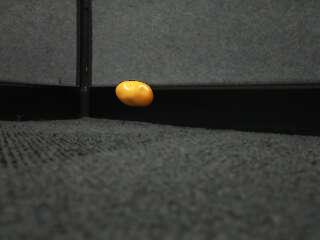Potato: (115, 78, 156, 108)
